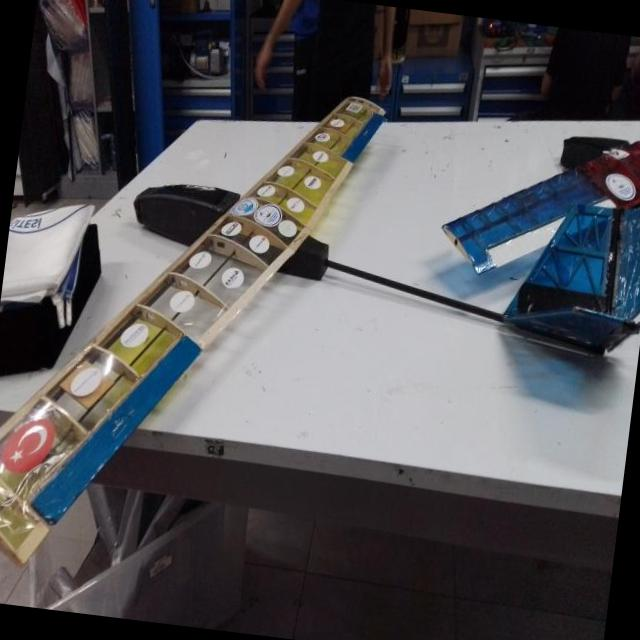UAV: (0, 54, 635, 616)
